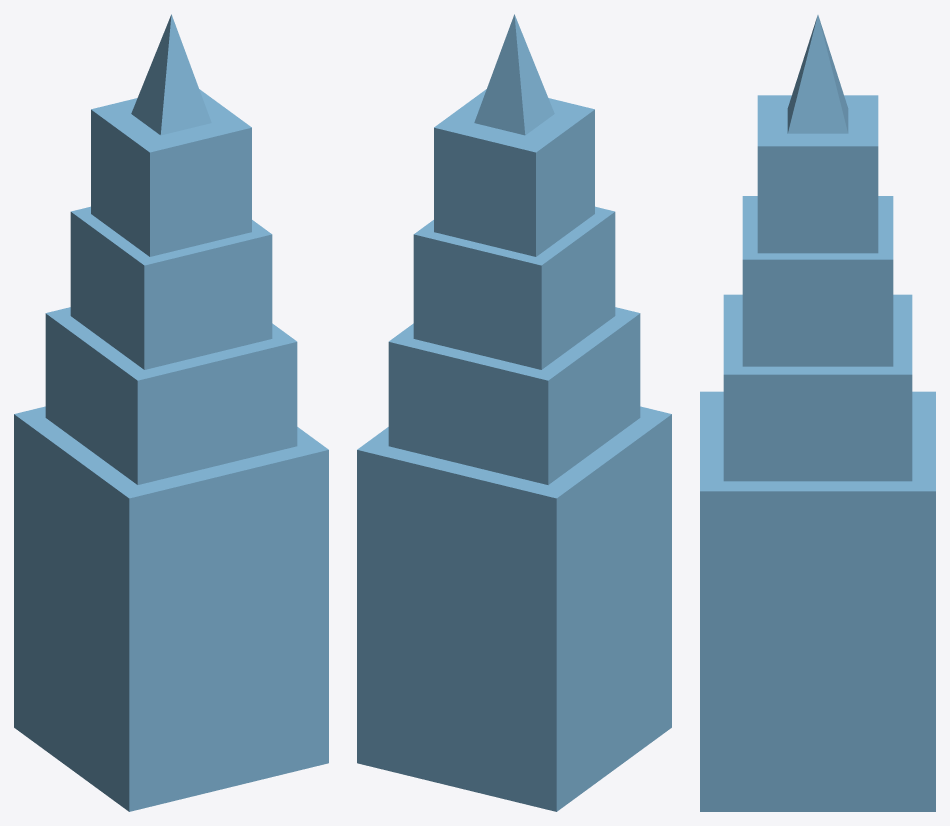
Rendered from Walls.fbx.
3 views of the same model, side by side, from view 1: azimuth 30°, elevation 25°; view 2: azimuth 150°, elevation 25°; view 3: azimuth 270°, elevation 25° (orthographic). The views are drawn at different scales.
Visible parts, largest first — view 1: Tower; view 2: Tower; view 3: Tower.
Boxes of the visible parts, x1,y1,x2,y2 form: Tower: (14, 14, 328, 811); Tower: (357, 14, 671, 811); Tower: (700, 15, 935, 811).
Bounding box in the file's own units: 200 × 700 × 200.
